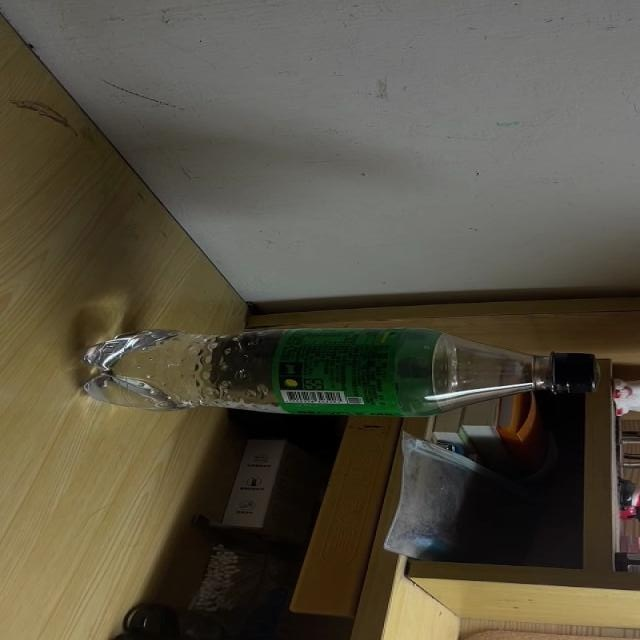Sprite: (78, 330, 600, 415)
